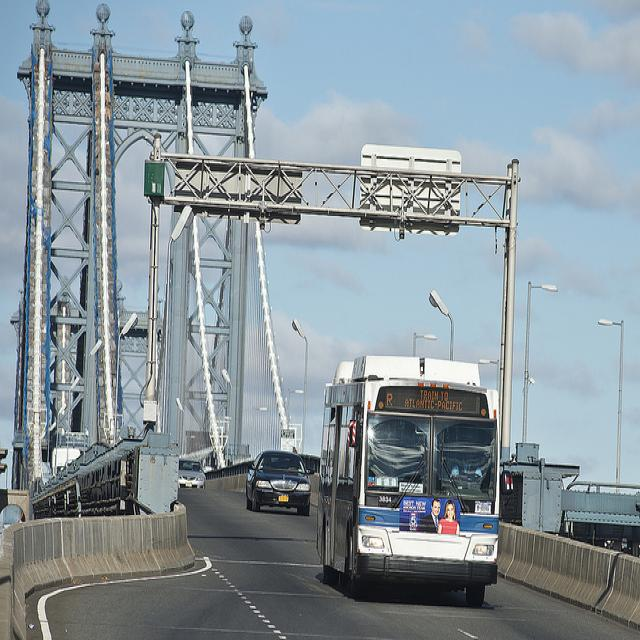Vehicle: (317, 354, 516, 612), (246, 454, 310, 516), (178, 458, 206, 488)
